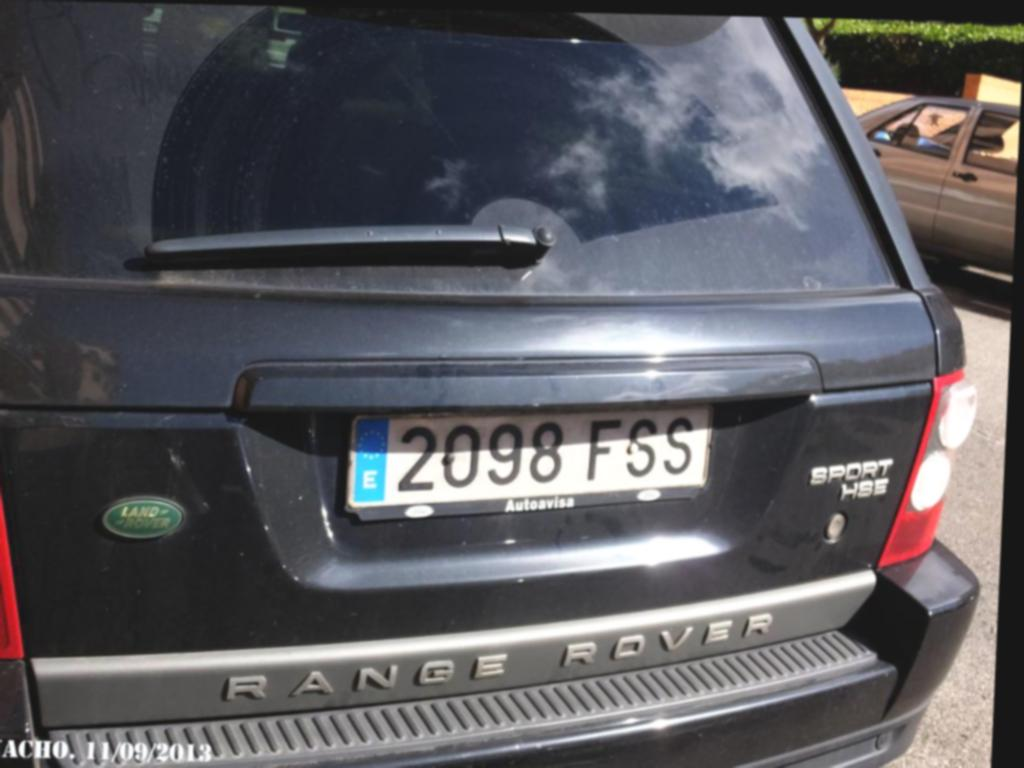License_Plate: (342, 394, 714, 528)
